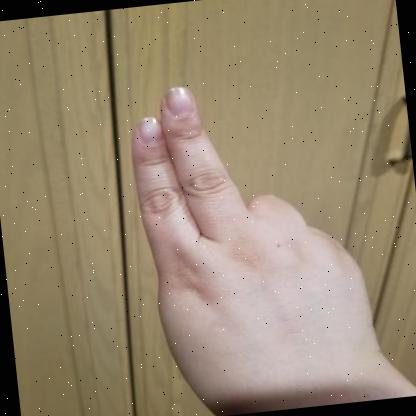U: (131, 86, 397, 416)
